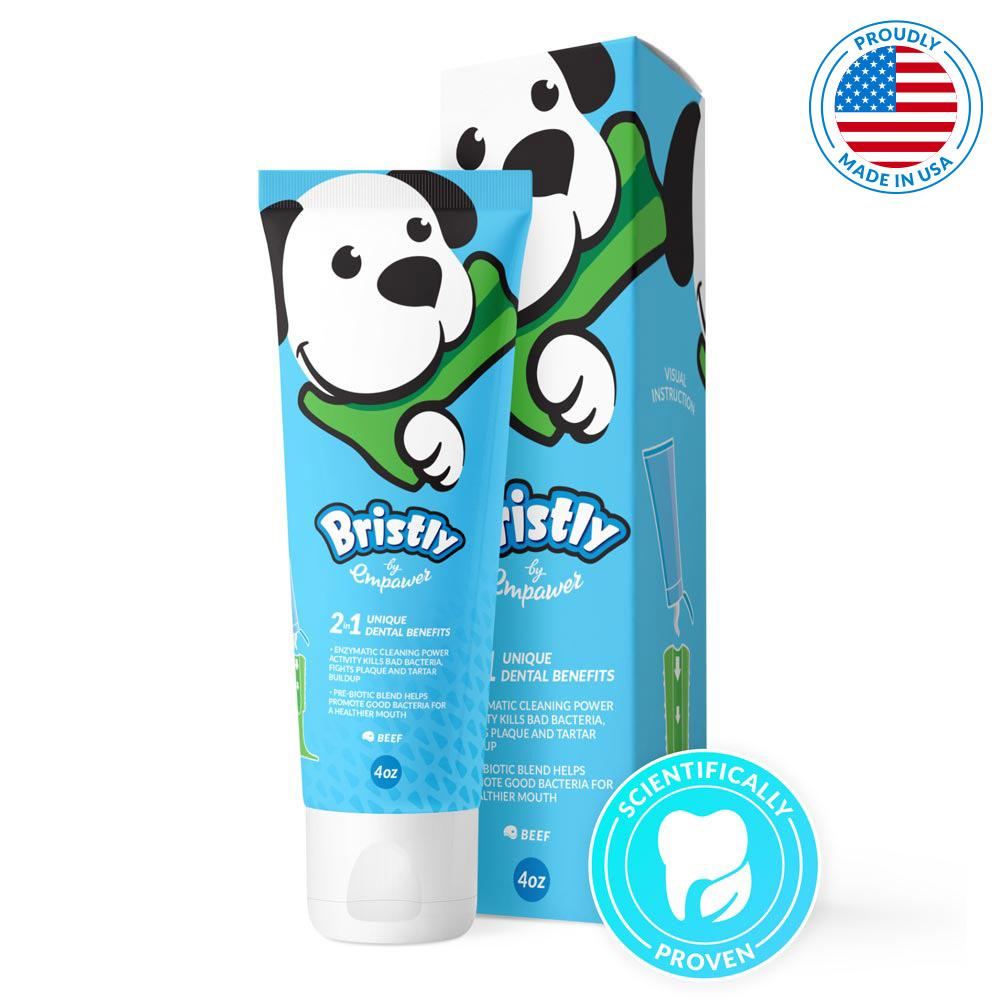toothpaste: (431, 32, 747, 985), (235, 149, 513, 965)
